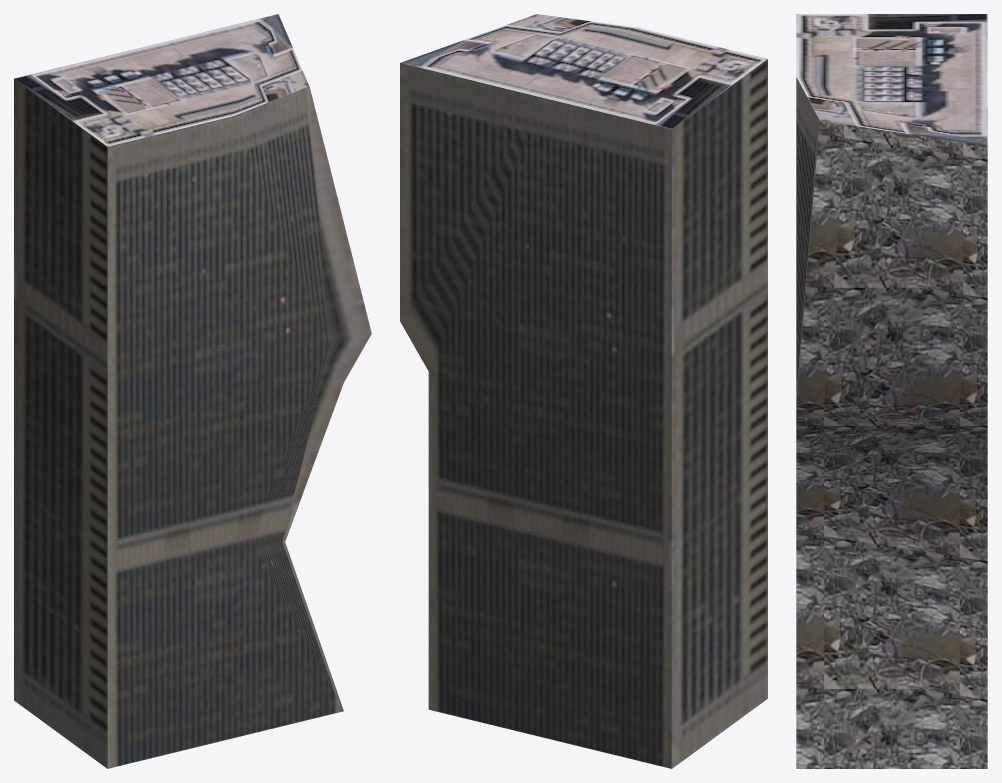
Rendered from broken_bill3.fbx.
3 renders of one model, left to right at view 1: azimuth 30°, elevation 25°; view 2: azimuth 150°, elevation 25°; view 3: azimuth 270°, elevation 25°, orthographic. The views are drawn at different scales.
Visible parts, largest first — view 1: brokenbill3; view 2: brokenbill3; view 3: brokenbill3.
Boxes of the visible parts, left/top/right/bottom form: brokenbill3: left=14, top=14, right=371, bottom=768; brokenbill3: left=400, top=14, right=767, bottom=768; brokenbill3: left=796, top=14, right=987, bottom=768.
Bounding box in the file's own units: 224 × 503 × 137.
4 materials, 4 textured.
